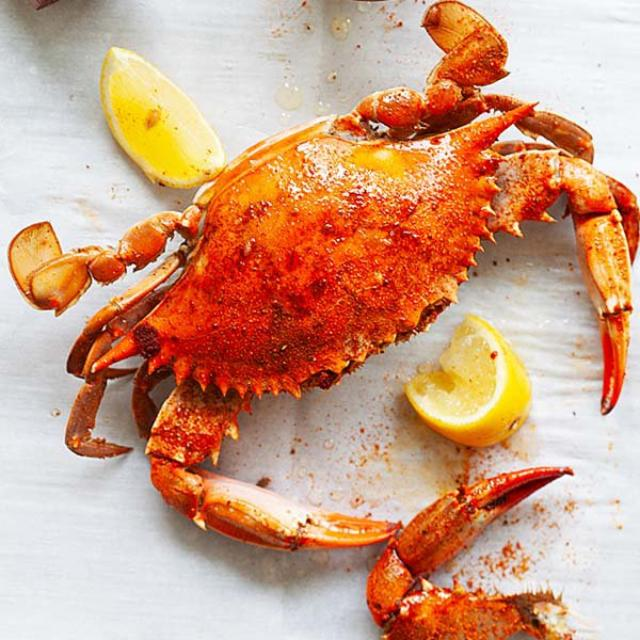crab: (157, 100, 568, 466)
